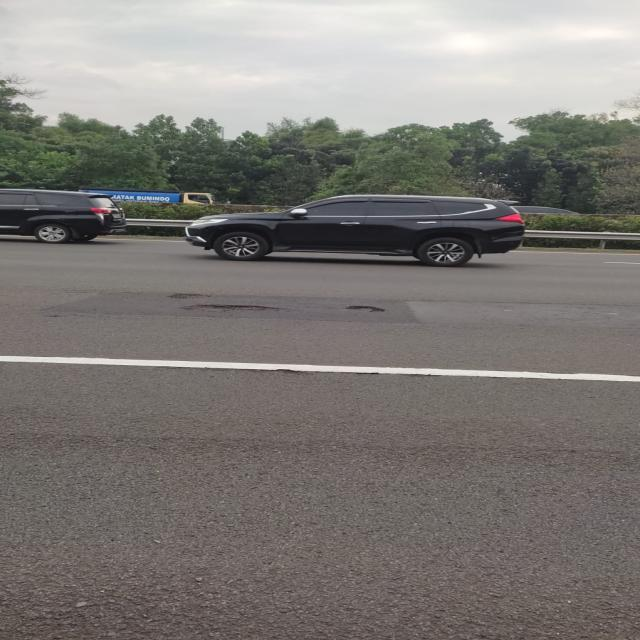Buraco: (175, 302, 282, 315), (343, 304, 387, 314), (166, 292, 214, 300)
